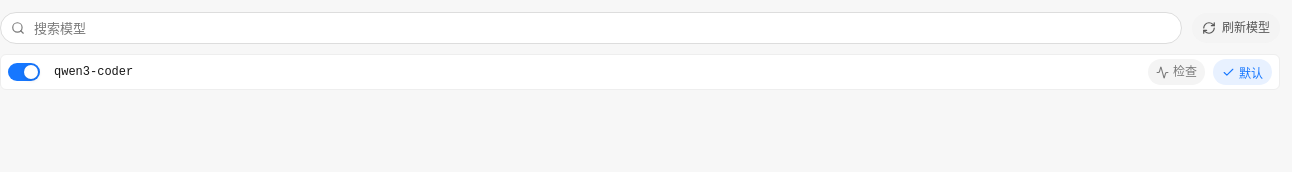
Scenario: ModelList › blocks disabling the current default model
Click the button named "停用 qwen3-coder" at (24, 72), box [8,63,40,81]
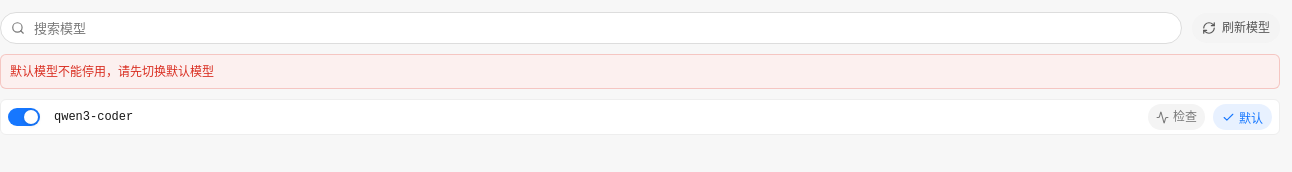
Expected: the message reads "默认模型不能停用，请先切换默认模型", [10,64,214,79]
